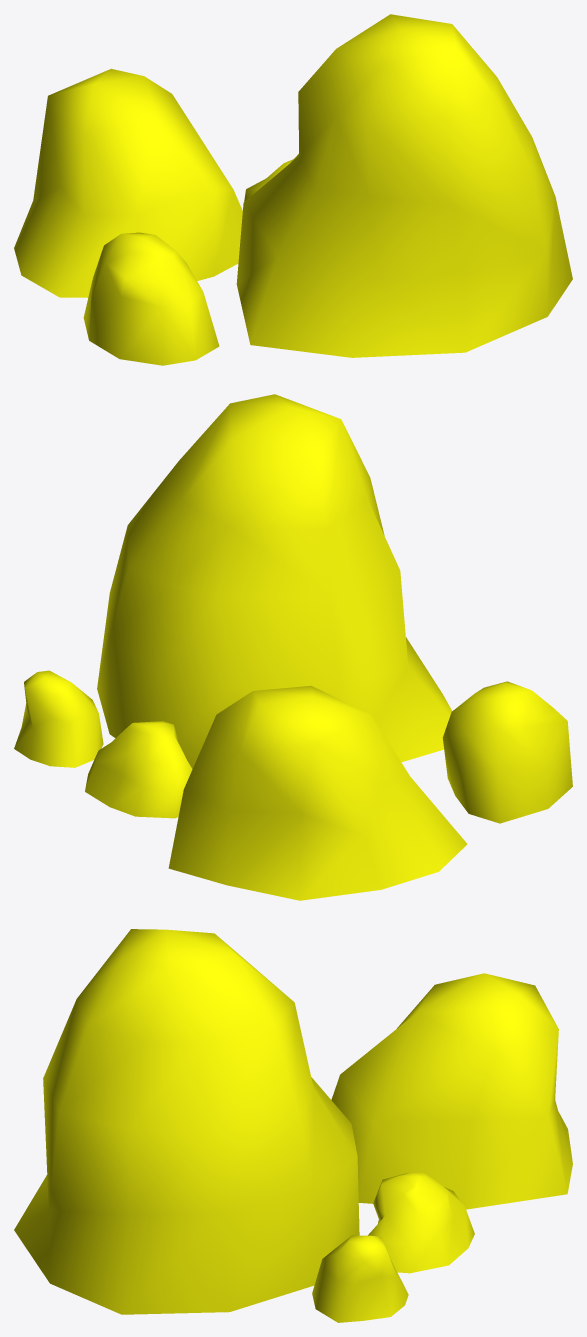
Rendered from shrine_rock_03.glb.
3 renders of one model, top to bottom at view 1: azimuth 30°, elevation 25°; view 2: azimuth 150°, elevation 25°; view 3: azimuth 270°, elevation 25°, orthographic. The views are drawn at different scales.
Parts seen in each view (by area): view 1: Shrine_rock_03; view 2: Shrine_rock_03; view 3: Shrine_rock_03.
Part boxes in pixels (left/top/right/bottom): Shrine_rock_03: left=14, top=14, right=572, bottom=365; Shrine_rock_03: left=14, top=394, right=572, bottom=900; Shrine_rock_03: left=14, top=929, right=572, bottom=1322.
Bounding box in the file's own units: 3.69 × 2.22 × 3.69.
3 materials, 3 textured.
